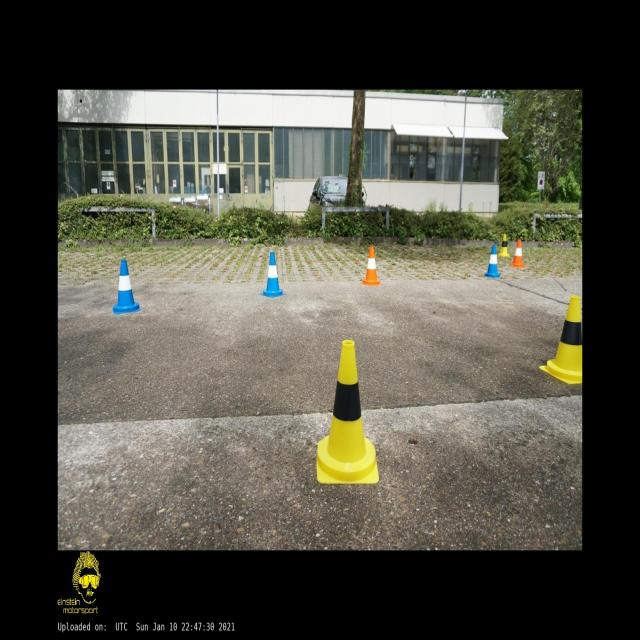blue_cone: (113, 260, 141, 314), (260, 252, 285, 298), (485, 245, 500, 277)
orange_cone: (362, 246, 380, 285), (511, 239, 524, 267)
yellow_cone: (317, 341, 379, 483), (540, 296, 582, 384), (498, 234, 510, 257)
